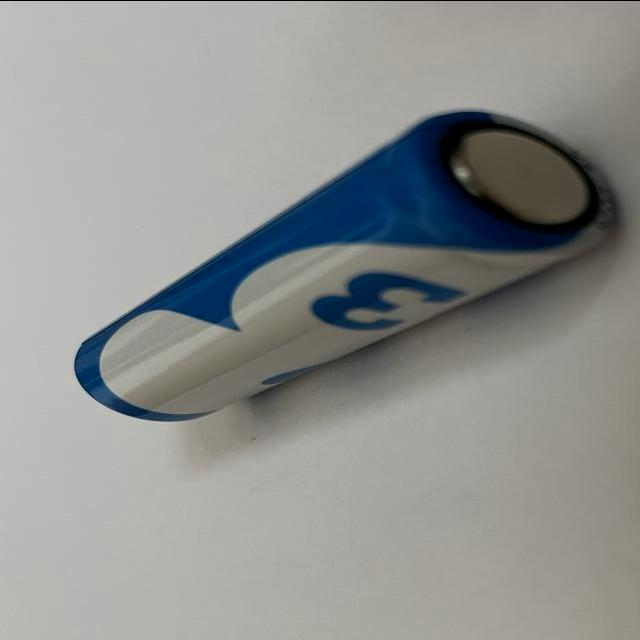AA: (67, 110, 619, 424)
